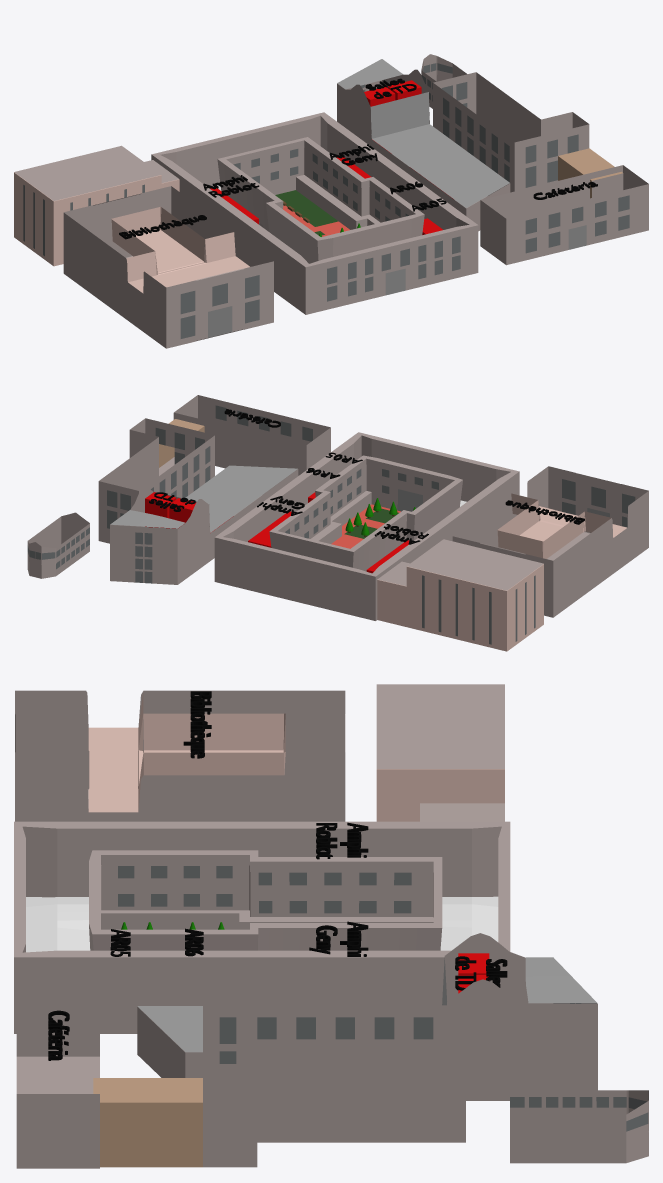
The model's file is amphis2.glb.
The picture shows the model from 3 angles, top to bottom: view 1: azimuth 30°, elevation 25°; view 2: azimuth 150°, elevation 25°; view 3: azimuth 270°, elevation 25°; orthographic projection. The views are drawn at different scales.
Visible parts, largest first — view 1: Bâtiment principal, toits, Cube.001, Cube.006, Cube.005, Cube, Cube.004, sol fac, Cube.007, Geny.005, Roblot; view 2: Bâtiment principal, toits, Cube.001, Cube, Cube.006, Cube.005, Cube.004, Cube.007, sol fac, Roblot.003, Geny.005, Roblot (+3 smaller); view 3: Bâtiment principal, Cube.006, toits, Cube.001, Cube.004, Cube.005, Cube.007, Cube, Roblot, Geny.005, Geny, TD (+1 smaller).
Part boxes in pixels (x1,y1,x2,y2): Bâtiment principal: (151,112,478,314); toits: (14,59,509,293); Cube.001: (63,186,273,348); Cube.006: (433,72,623,198); Cube.005: (480,165,648,265); Cube: (14,172,179,266); Cube.004: (337,69,510,231); sol fac: (275,190,360,236); Cube.007: (421,54,467,108); Geny.005: (119,215,206,239); Roblot: (203,175,259,197); Bâtiment principal: (214,432,519,620); toits: (110,465,626,590); Cube.001: (452,466,648,617); Cube: (377,564,543,651); Cube.006: (98,418,214,543); Cube.005: (173,395,330,475); Cube.004: (110,469,298,584); Cube.007: (27,512,89,578); sol fac: (331,498,415,548); Roblot.003: (145,492,176,528); Geny.005: (505,500,584,524); Roblot: (374,524,428,544); Bâtiment principal: (14,821,510,1033); Cube.006: (93,1005,465,1167); toits: (88,684,597,1052); Cube.001: (15,690,345,821); Cube.004: (137,933,597,1100); Cube.005: (16,982,99,1168); Cube.007: (510,1090,648,1163); Cube: (376,769,504,821); Roblot: (316,822,368,859); Geny.005: (183,691,211,758); Geny: (309,921,368,956); TD: (455,956,507,990).
Bounding box in the file's own units: 17.59 × 2.69 × 12.02.
